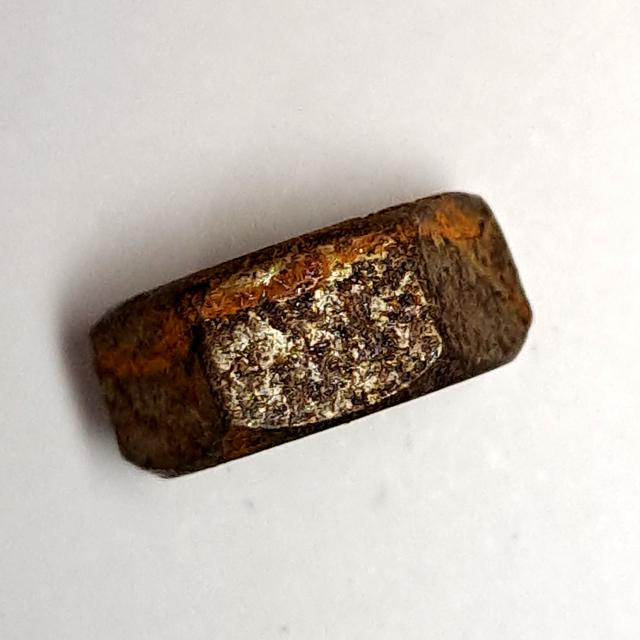Side_Rust: (64, 169, 550, 493)
